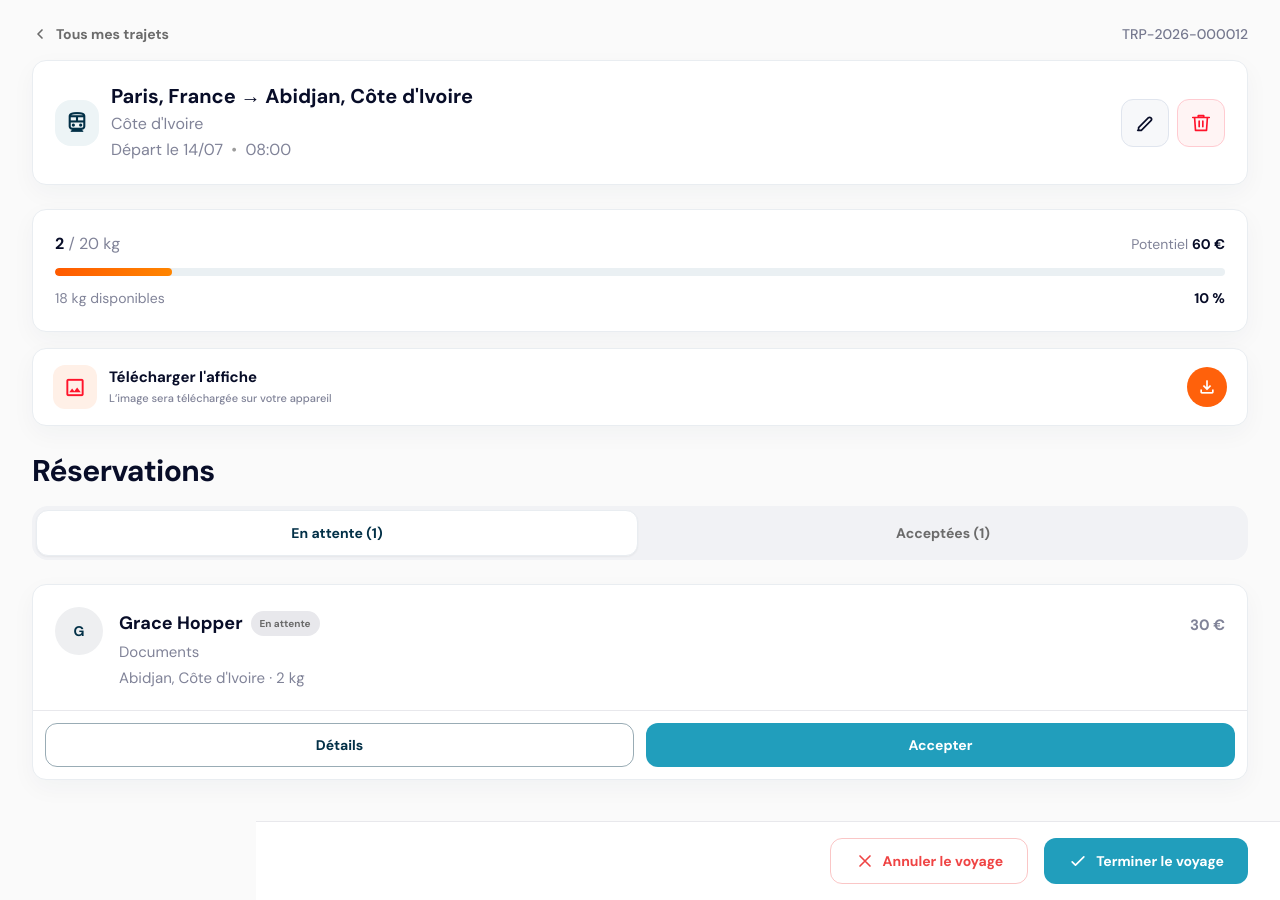
Scenario: ReservationDetailsPageComponent › switches reservation tabs from the view and exposes the selected state
Check: the button "En attente (1)" is shown, box [36, 510, 638, 556]
Click the button "Acceptées (1)": (943, 533) [642, 510, 1244, 556]
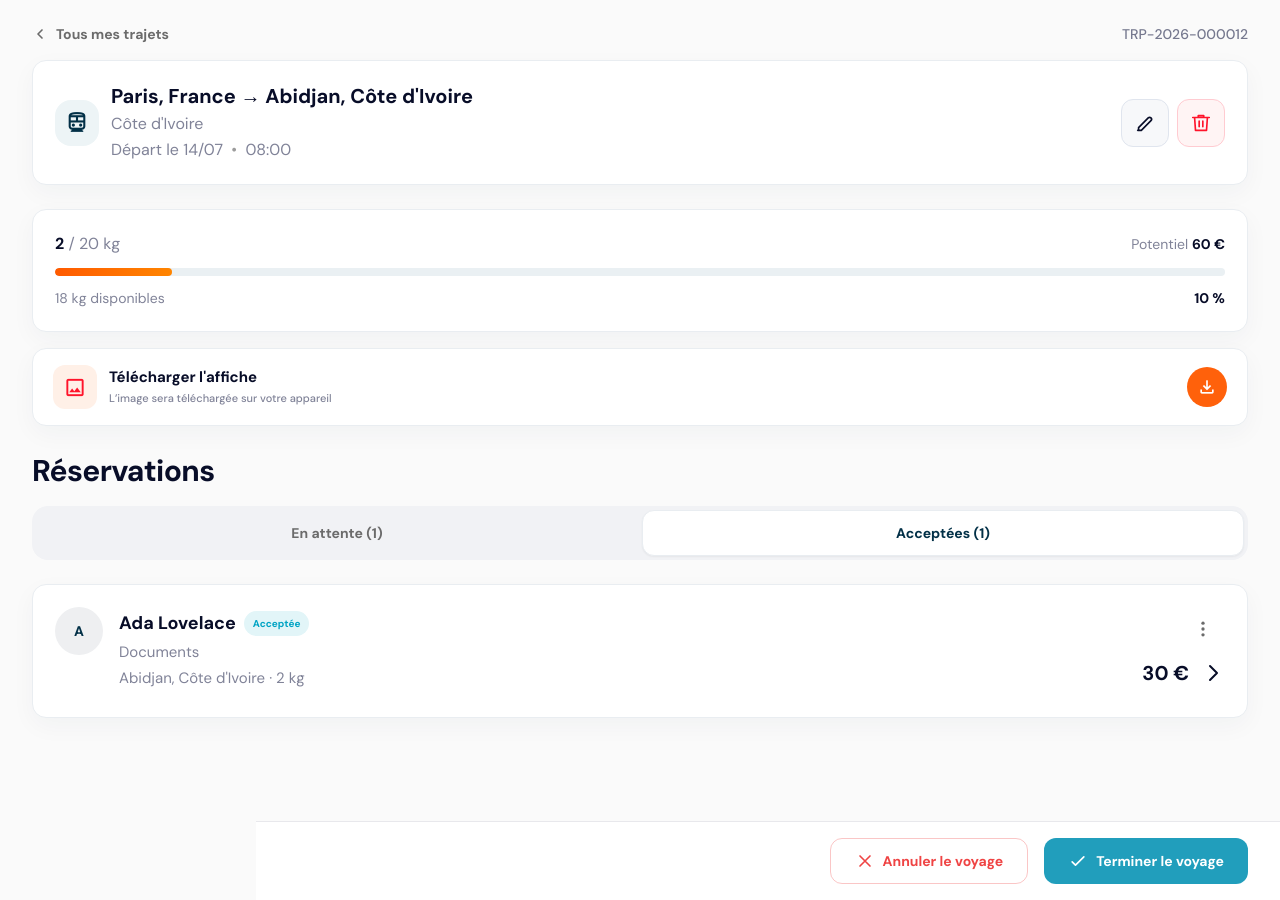
Check: the element that starts with "Ada Lovelace" is shown, box [119, 611, 236, 635]
